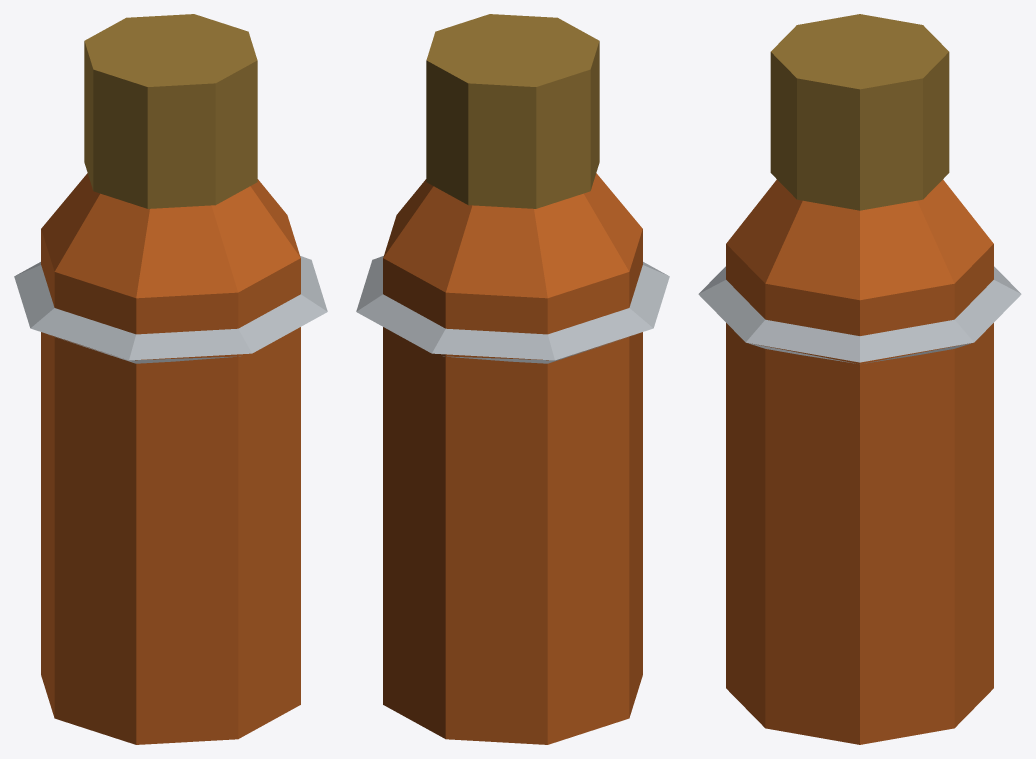
Rendered from vial.lod.glb.
The picture shows the model from 3 angles, left to right: view 1: azimuth 30°, elevation 25°; view 2: azimuth 150°, elevation 25°; view 3: azimuth 270°, elevation 25°; orthographic projection.
Parts seen in each view (by area): view 1: m; view 2: m; view 3: m.
Boxes of the visible parts, <box> form: m: <box>14,14,327,744</box>; m: <box>356,14,669,744</box>; m: <box>698,14,1021,744</box>.
Size of the model in its own units: 0.0272 by 0.06 by 0.0272.
